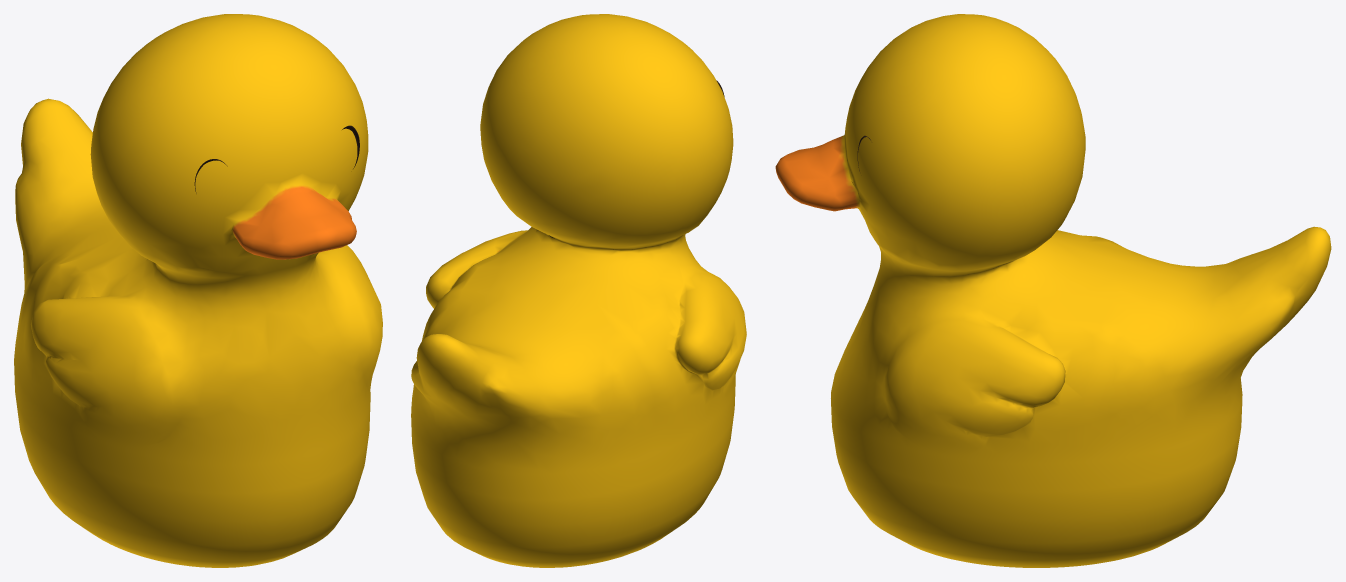
The model's file is duck.glb.
The picture shows the model from 3 angles, left to right: view 1: azimuth 30°, elevation 25°; view 2: azimuth 150°, elevation 25°; view 3: azimuth 270°, elevation 25°; orthographic projection. The views are drawn at different scales.
Parts seen in each view (by area): view 1: duck_body; view 2: duck_body; view 3: duck_body.
Boxes of the visible parts, left/top/right/bottom form: duck_body: left=14, top=14, right=382, bottom=567; duck_body: left=411, top=14, right=746, bottom=567; duck_body: left=775, top=14, right=1331, bottom=567.
Bounding box in the file's own units: 0.1919 × 0.2985 × 0.3024.
Materials: 2 (1 with a texture image).
